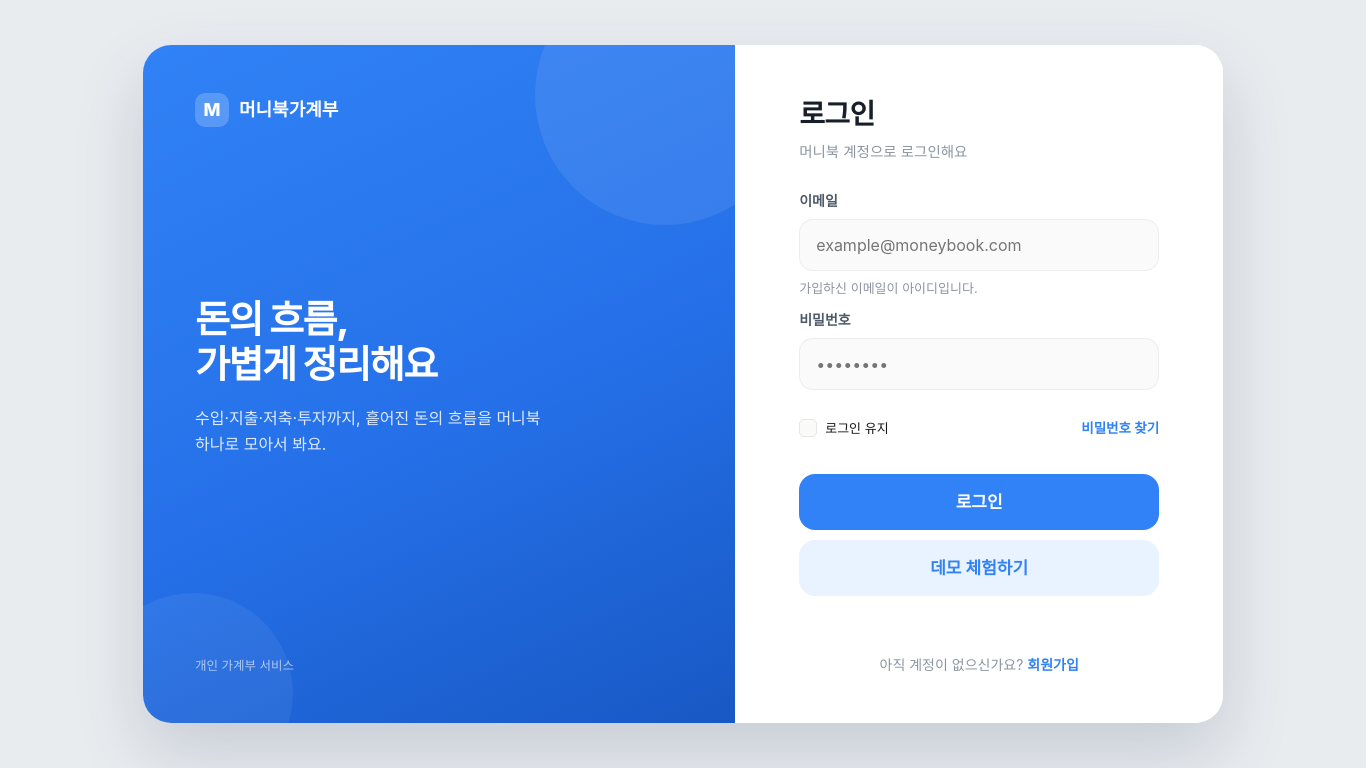
LoginPage › preserves credentials and permits retry after a rejected login
This screenshot has width=1366, height=768.
Type "hong@example.com" into the field labelled "이메일".
click(979, 245); type("hong@example.com")  # box [799, 219, 1159, 271]
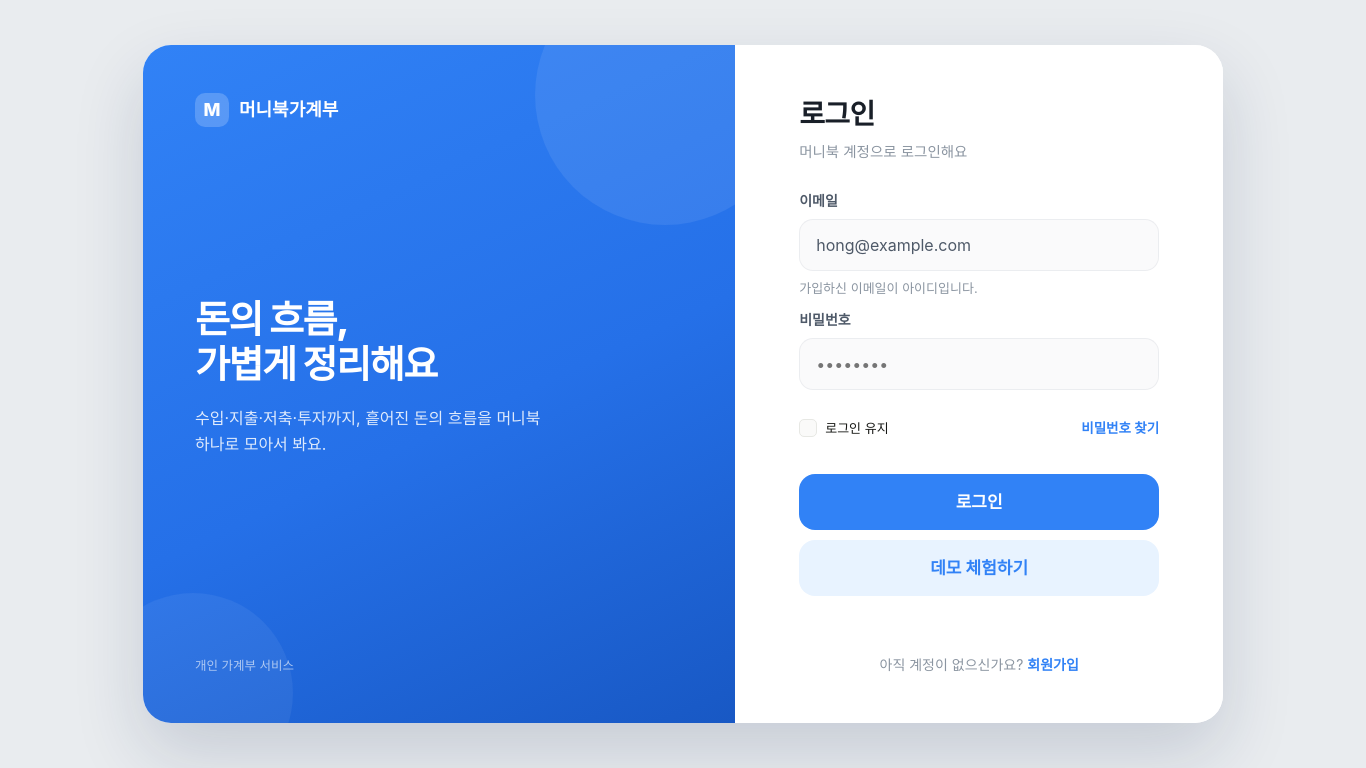
Type "test-password" into the password field labelled "비밀번호".
click(979, 364); type("test-password")  # box [799, 338, 1159, 390]
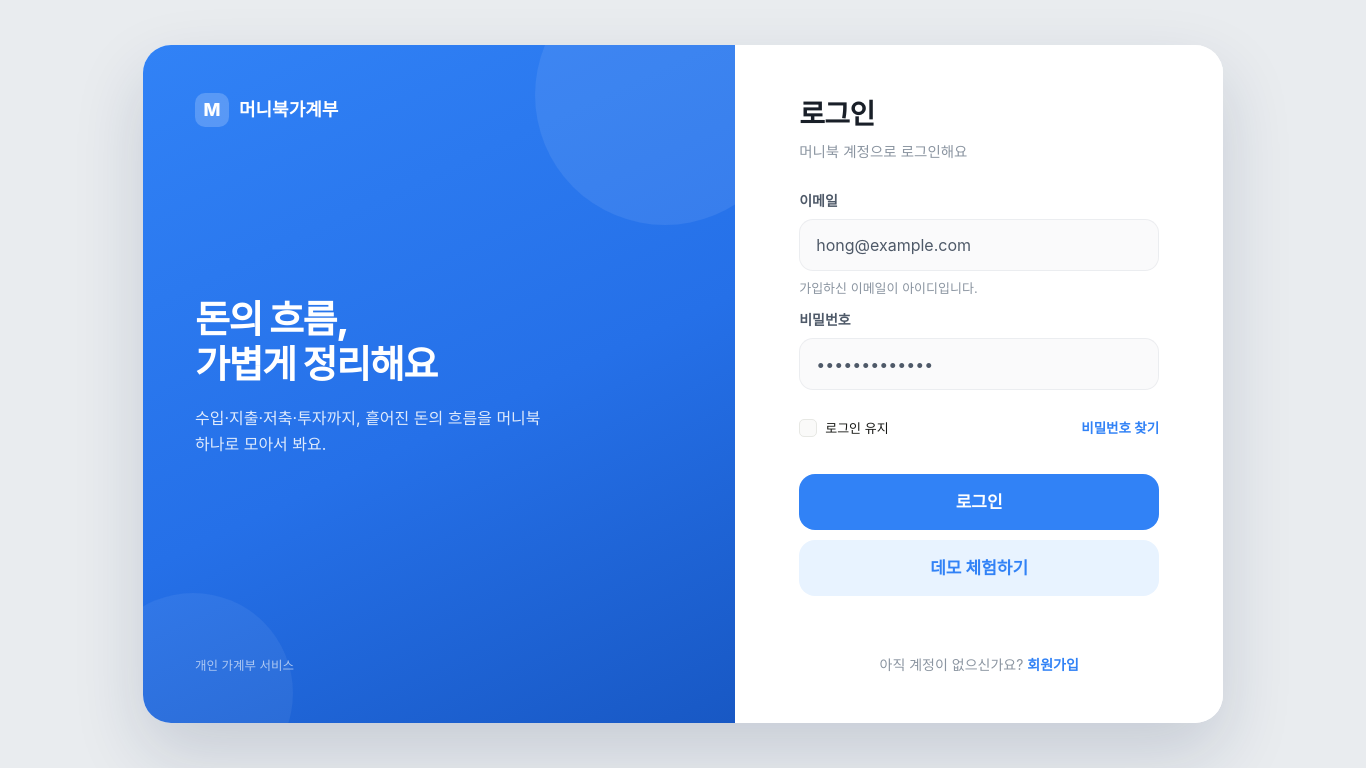
Click the button "로그인".
click(979, 502)  # box [799, 474, 1159, 530]
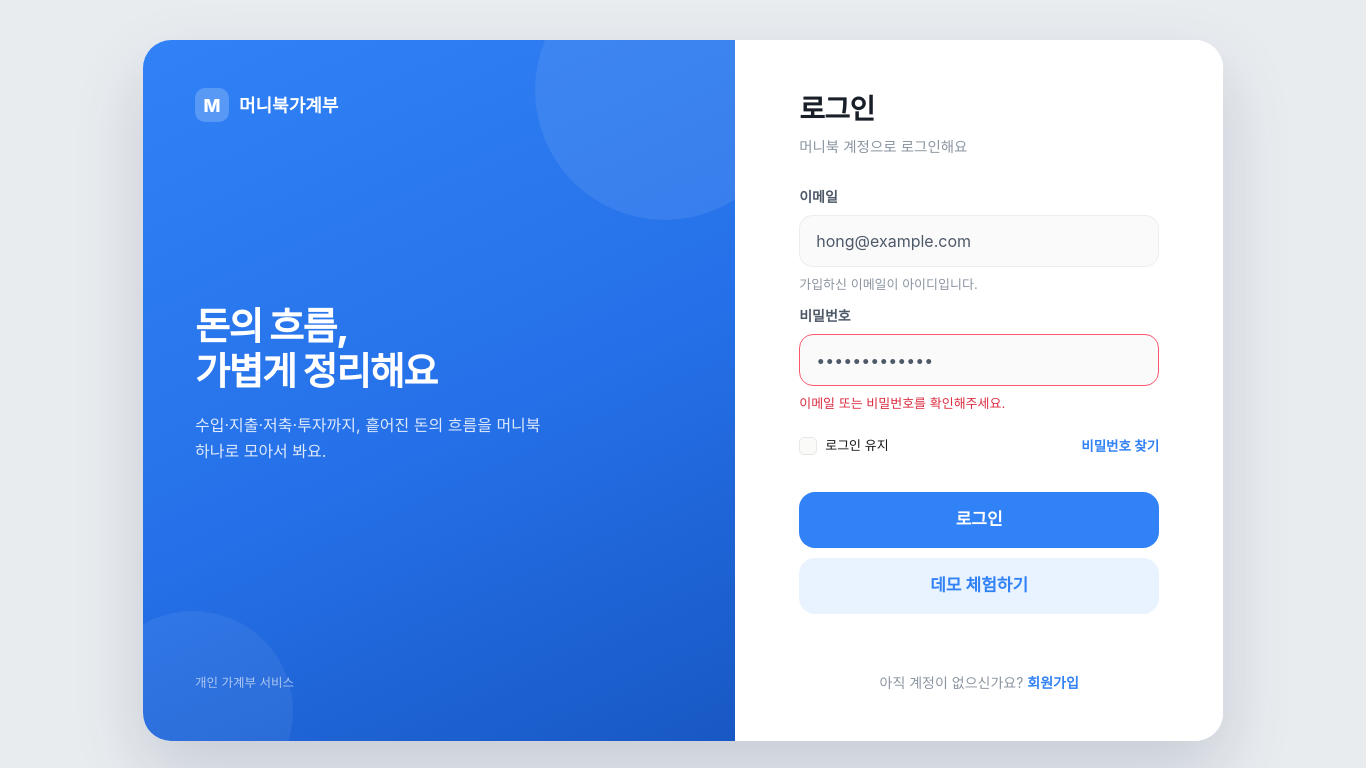
Expected: the button "로그인" is enabled, [799, 492, 1159, 548]
Expected: the message "이메일 또는 비밀번호를 확인해주세요." is shown, [799, 395, 1005, 411]
